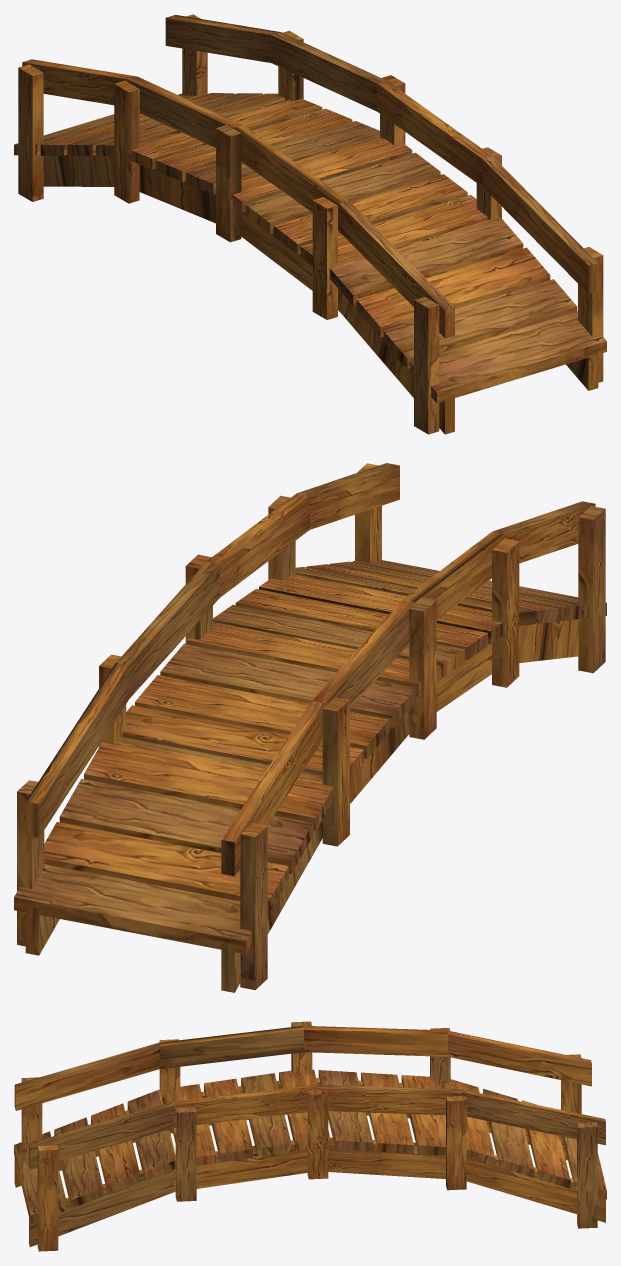
3 renders of one model, top to bottom at view 1: azimuth 30°, elevation 25°; view 2: azimuth 150°, elevation 25°; view 3: azimuth 270°, elevation 25°, orthographic. The views are drawn at different scales.
Visible parts, largest first — view 1: bridge.001_bridge; view 2: bridge.001_bridge; view 3: bridge.001_bridge.
Part boxes in pixels (<box>): bridge.001_bridge: <box>14,14,606,434</box>; bridge.001_bridge: <box>14,463,606,992</box>; bridge.001_bridge: <box>14,1021,606,1251</box>.
Bounding box in the file's own units: 1.93 × 1.37 × 5.02.
1 material, 1 textured.
